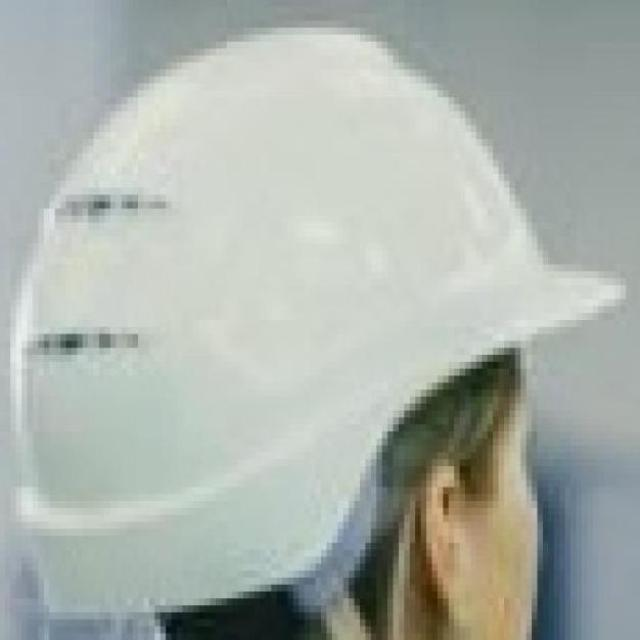white helmet: (15, 25, 626, 612)
